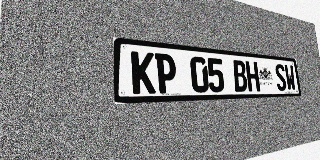0: (190, 56, 209, 93)
5: (207, 58, 225, 92)
B: (232, 60, 248, 92)
H: (245, 61, 260, 91)
K: (131, 51, 156, 94)
P: (155, 53, 177, 93)
S: (274, 64, 287, 91)
W: (284, 64, 296, 91)
